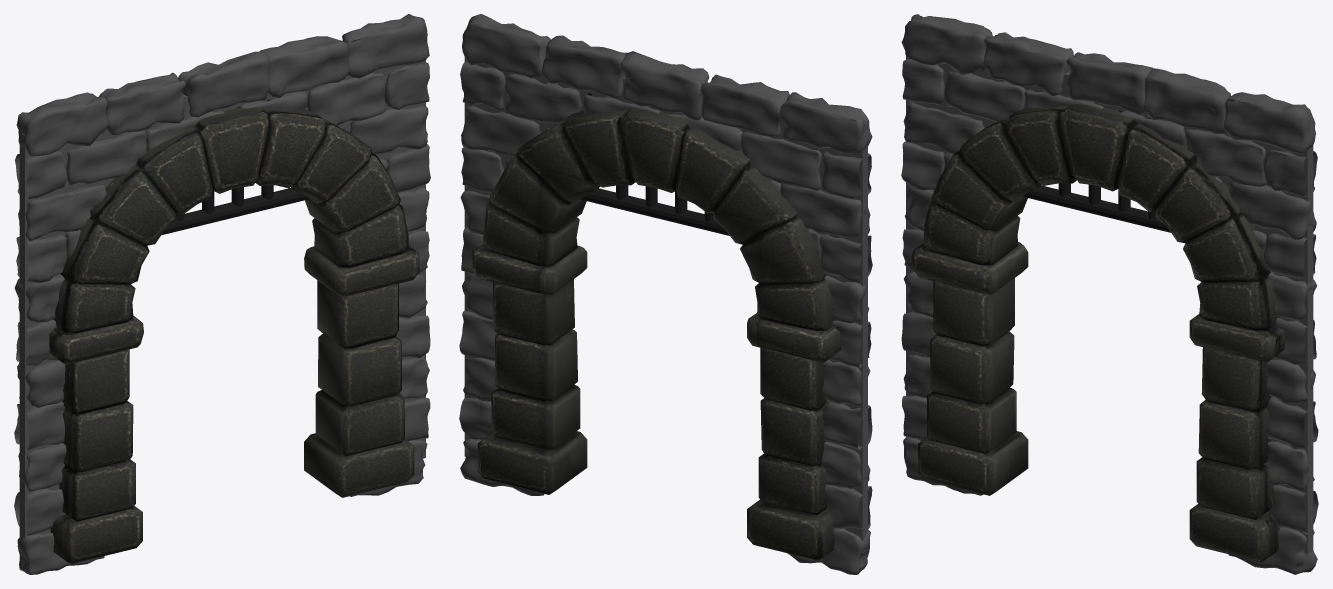
Rendered from Archway_Gated.fbx.
3 views of the same model, side by side, from view 1: azimuth 30°, elevation 25°; view 2: azimuth 150°, elevation 25°; view 3: azimuth 330°, elevation 25° (orthographic).
Parts seen in each view (by area): view 1: Archway_Gated; view 2: Archway_Gated; view 3: Archway_Gated.
Part boxes in pixels (bbox=[...]): Archway_Gated: bbox=[14, 14, 430, 574]; Archway_Gated: bbox=[459, 14, 872, 574]; Archway_Gated: bbox=[901, 14, 1318, 574].
Size of the model in its own units: 304 by 335 by 49.25.
